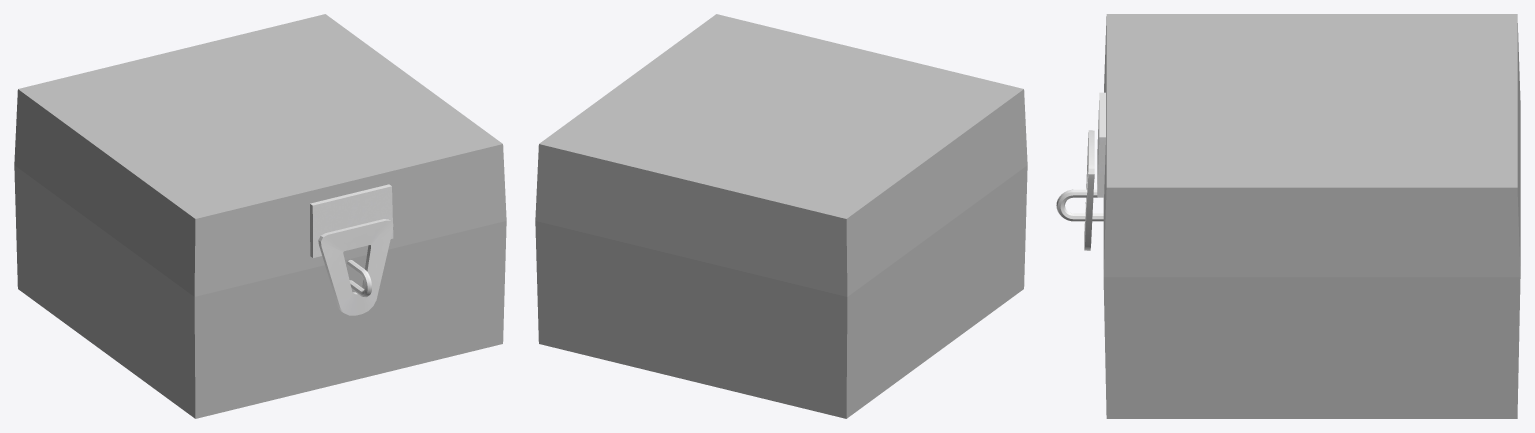
Rendered from NoseBox.fbx.
3 renders of one model, left to right at view 1: azimuth 30°, elevation 25°; view 2: azimuth 150°, elevation 25°; view 3: azimuth 270°, elevation 25°, orthographic. The views are drawn at different scales.
Parts seen in each view (by area): view 1: NoseBox_Tapa, NoseBox; view 2: NoseBox_Tapa, NoseBox; view 3: NoseBox_Tapa, NoseBox.
Part boxes in pixels (x1,y1,x2,y2): NoseBox_Tapa: (14,14,506,315); NoseBox: (14,165,506,418); NoseBox_Tapa: (535,14,1027,296); NoseBox: (535,165,1027,418); NoseBox_Tapa: (1084,14,1520,277); NoseBox: (1056,189,1520,418).
Bounding box in the file's own units: 13.68 × 8.37 × 15.22.
